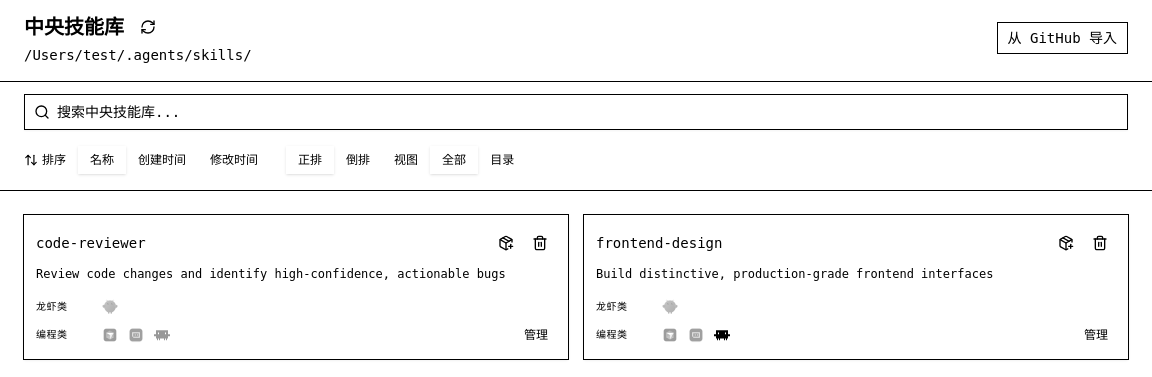
Test case: CentralSkillsView › filters skills by description when searching
The width and height of the screenshot is (1152, 377).
Type "actionable" into the field with placeholder "搜索中央技能库...". click: (576, 112)
box: [24,94,1128,130]
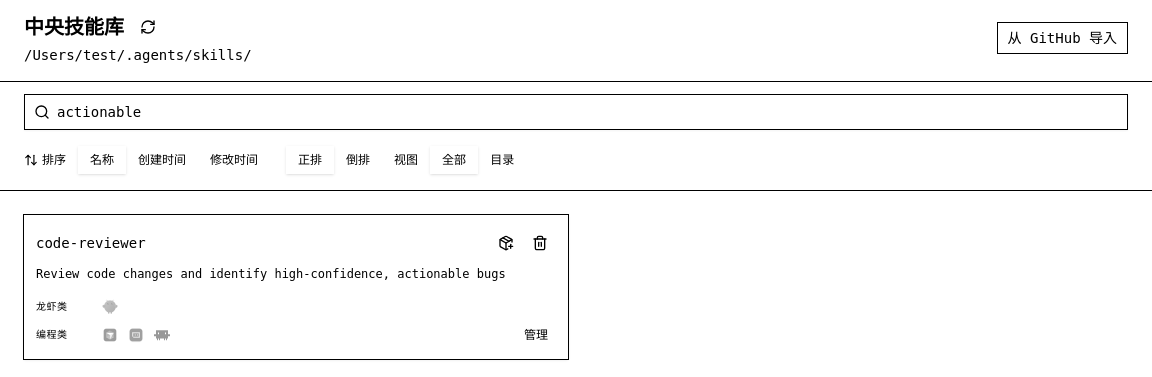
Expected: the button "code-reviewer" is shown, [36,233,482,253]
Result: the button "frontend-design" is gone
